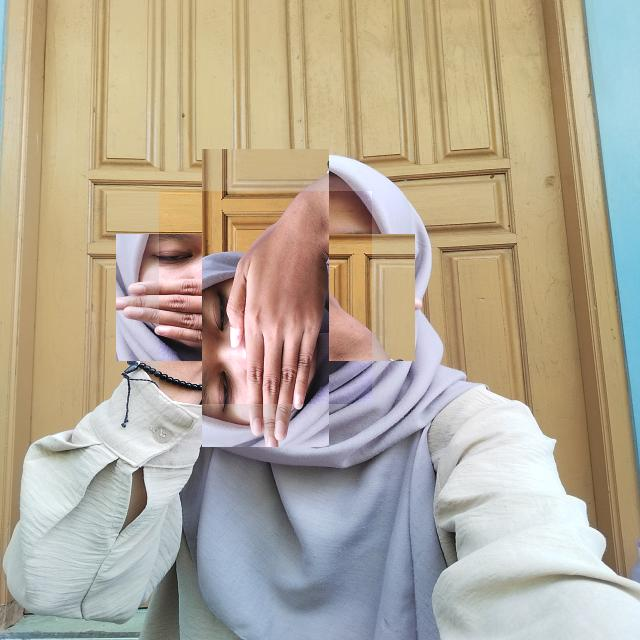buruk: (159, 191, 372, 404)
